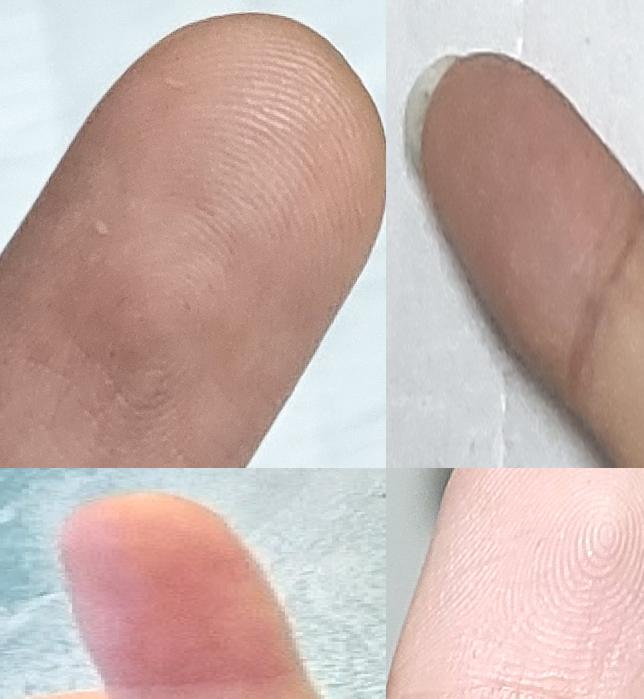Fingerprints: (0, 10, 386, 468), (422, 52, 644, 401), (386, 468, 644, 699), (57, 493, 304, 683)
